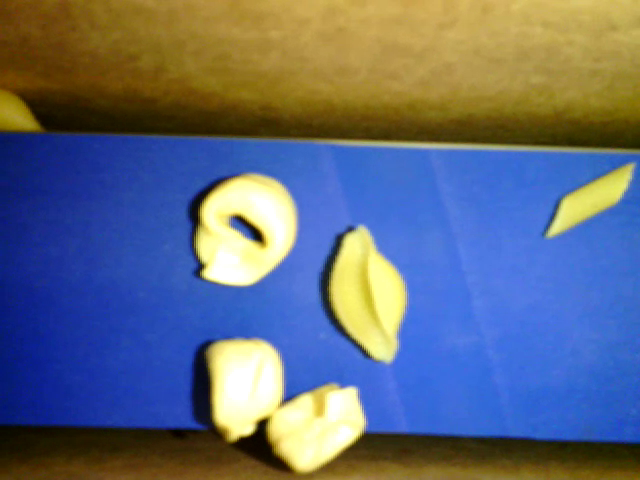penne: (546, 161, 634, 240)
shell: (325, 222, 410, 364)
tortellini: (196, 173, 297, 287), (268, 382, 370, 473), (203, 337, 287, 444)
